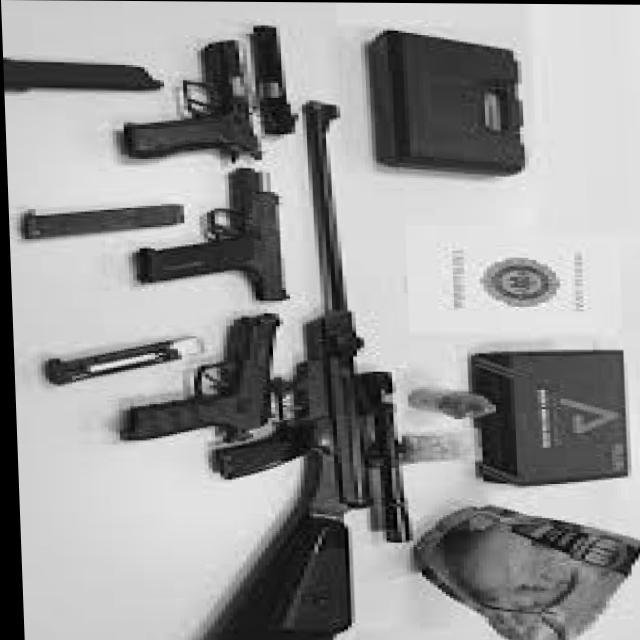handgun: (110, 309, 288, 446), (125, 171, 290, 307), (123, 40, 255, 169)
rifle: (175, 98, 359, 640)
